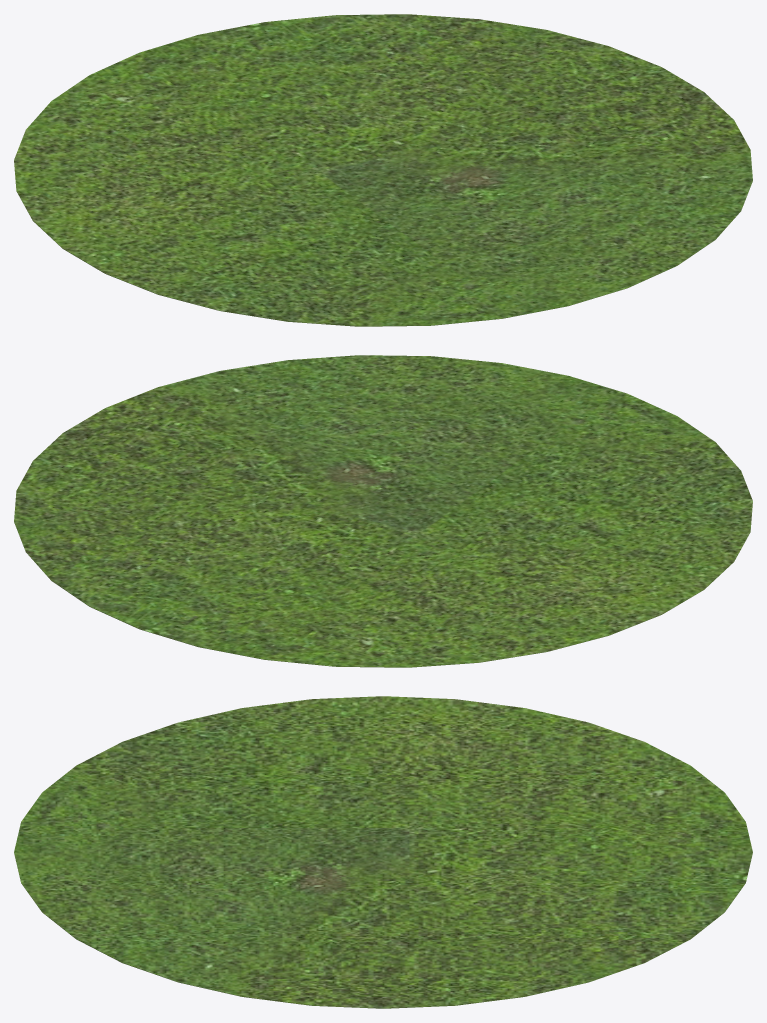
The model's file is grass.obj.
3 views of the same model, one above another, from view 1: azimuth 30°, elevation 25°; view 2: azimuth 150°, elevation 25°; view 3: azimuth 270°, elevation 25° (orthographic).
Parts seen in each view (by area): view 1: Cylinder; view 2: Cylinder; view 3: Cylinder.
Boxes of the visible parts, x1,y1,x2,y2 form: Cylinder: (14,14,752,326); Cylinder: (14,355,752,667); Cylinder: (14,696,752,1008).
Size of the model in its own units: 200 by 0.1 by 200.
